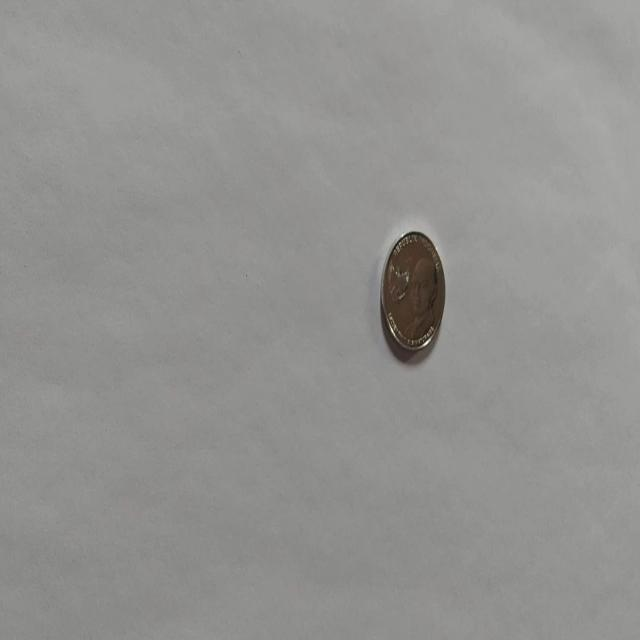lima ratus rupiah: (379, 228, 446, 359)
